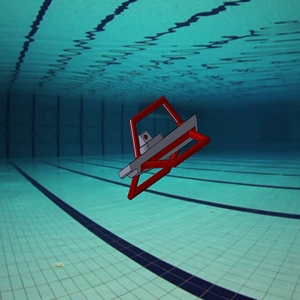submarine: (107, 87, 216, 209)
